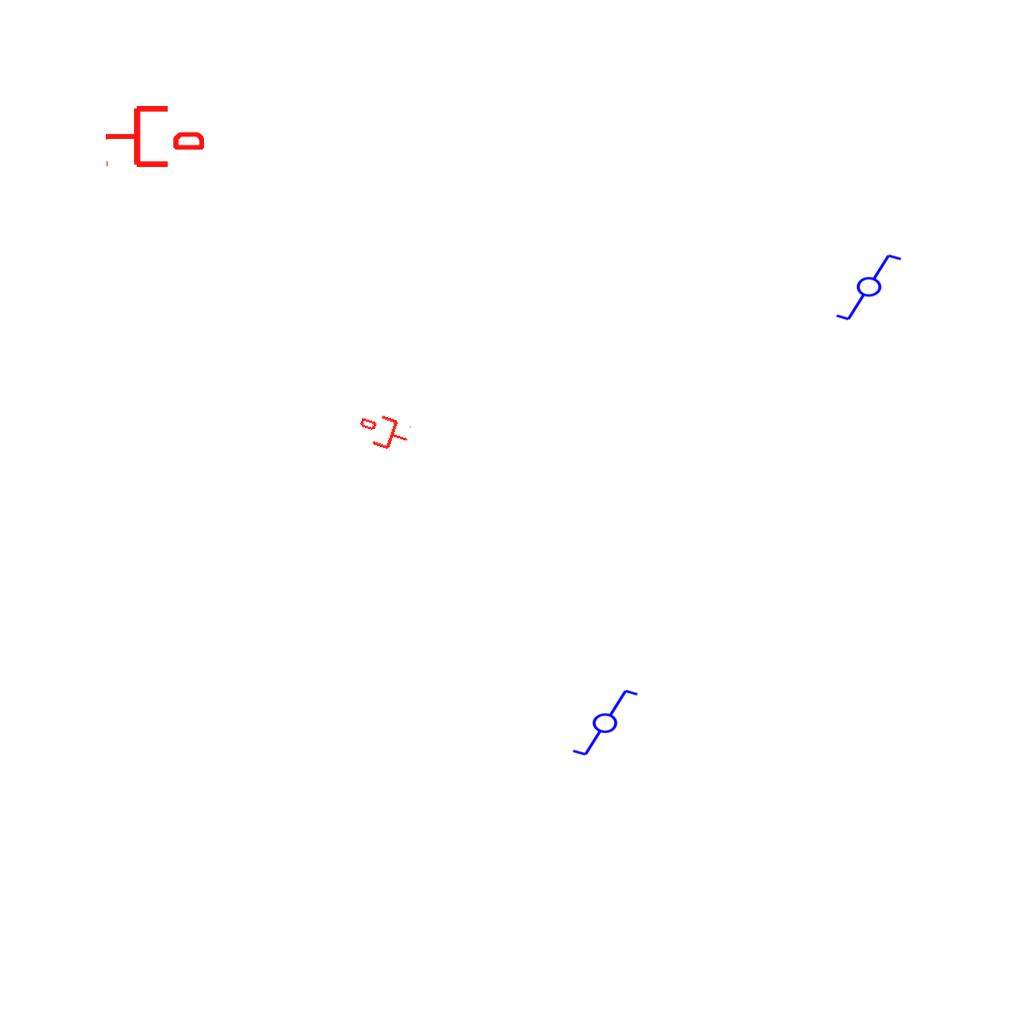Datenanschluss_einfach: (104, 102, 204, 171), (354, 407, 414, 457)
Wechselschalter: (562, 686, 640, 758), (834, 252, 912, 324)
